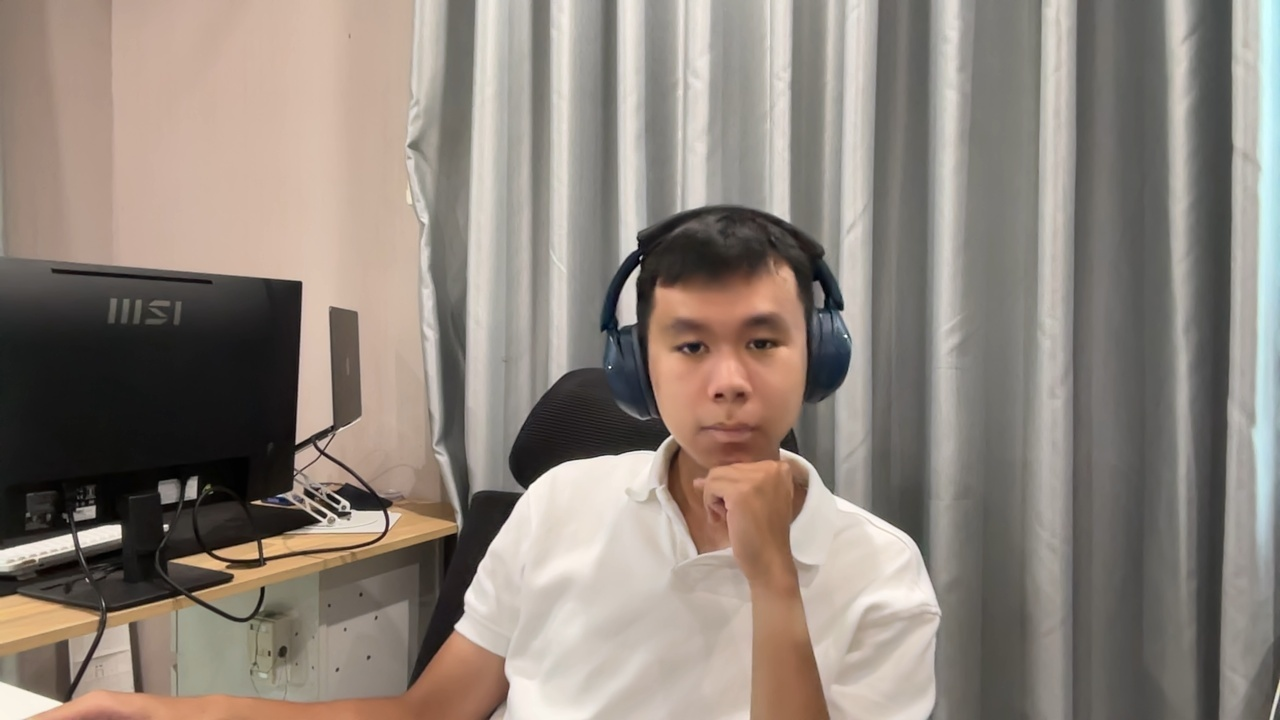over_ear: (598, 205, 857, 426), (599, 204, 854, 424)
